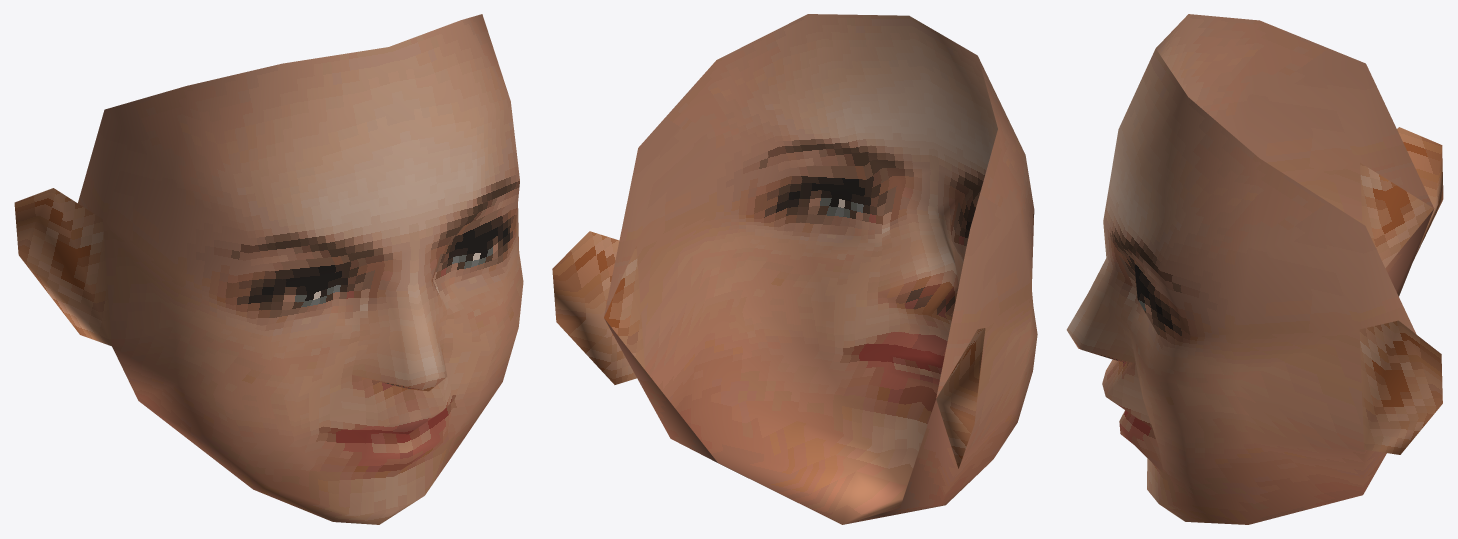
3 renders of one model, left to right at view 1: azimuth 30°, elevation 25°; view 2: azimuth 150°, elevation 25°; view 3: azimuth 270°, elevation 25°, orthographic. The views are drawn at different scales.
Bounding box in the file's own units: 19.4 × 20.24 × 14.79.
Materials: 1 (1 with a texture image).
